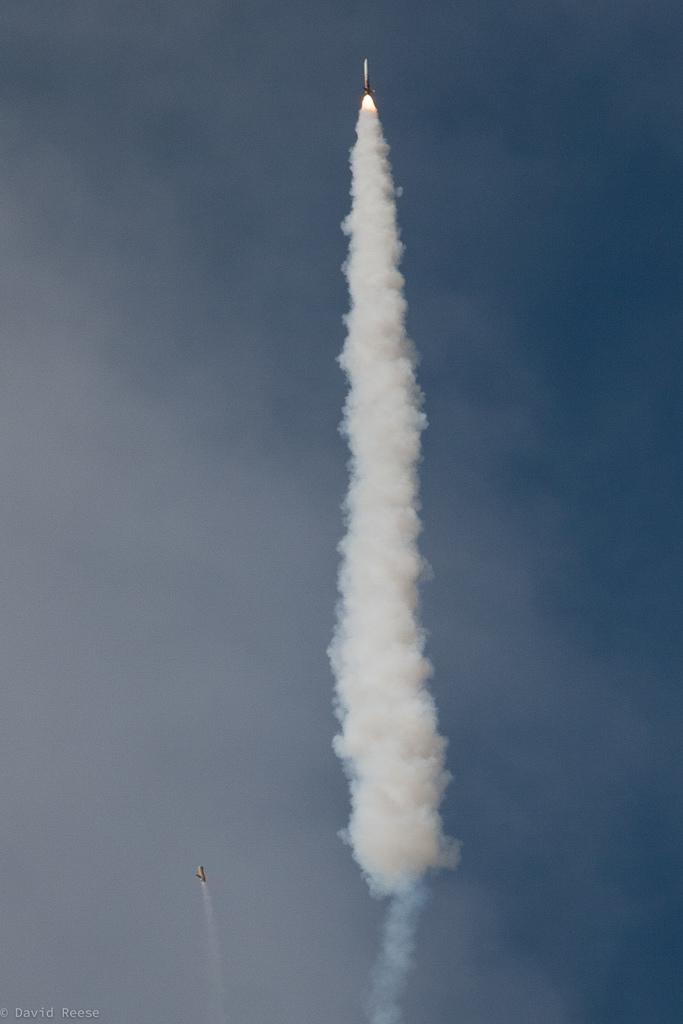Missile: (333, 51, 409, 132), (196, 864, 205, 881)
